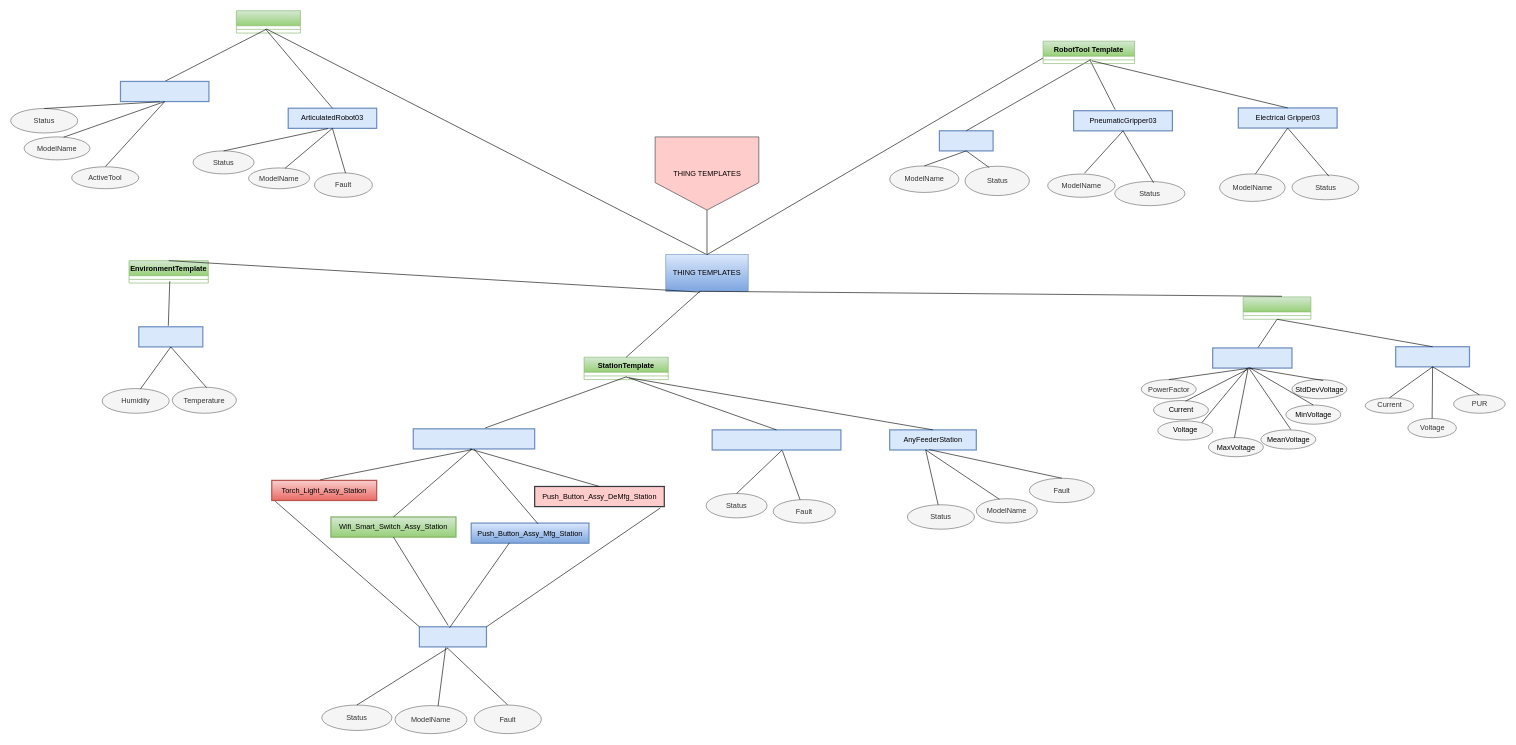
Some shapes in this 1516 by 745 pixel diagram are drawn without their labels. Here are the shapes that lost their labels. From the top down, the centre of each, then its label:
point (268, 21): RobotTemplate
point (164, 91): RobotToolChuck03
point (965, 140): Vacuum03
point (1277, 307): PowerSupply
point (170, 336): Environment
point (1432, 356): DC_Power_Supply
point (1252, 357): AC_Power_Supply
point (473, 438): AssemblyStation
point (776, 439): TorchLightLEDTesterStation
point (452, 636): Properties
